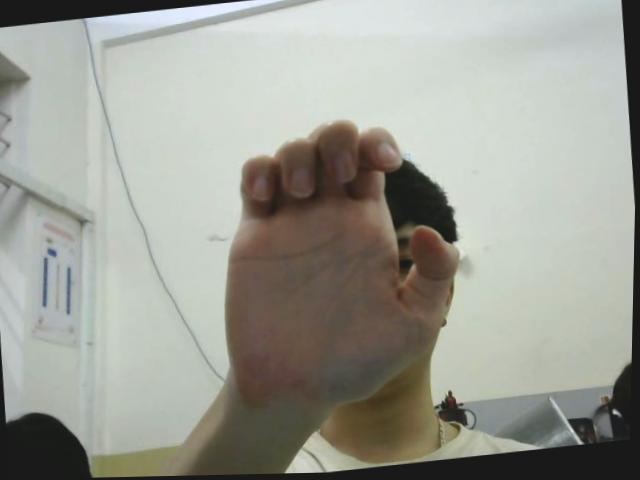E: (205, 107, 474, 409)
